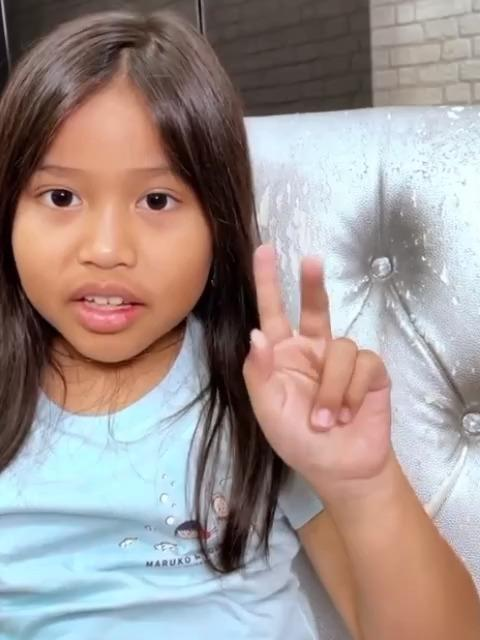U: (236, 235, 404, 479)
